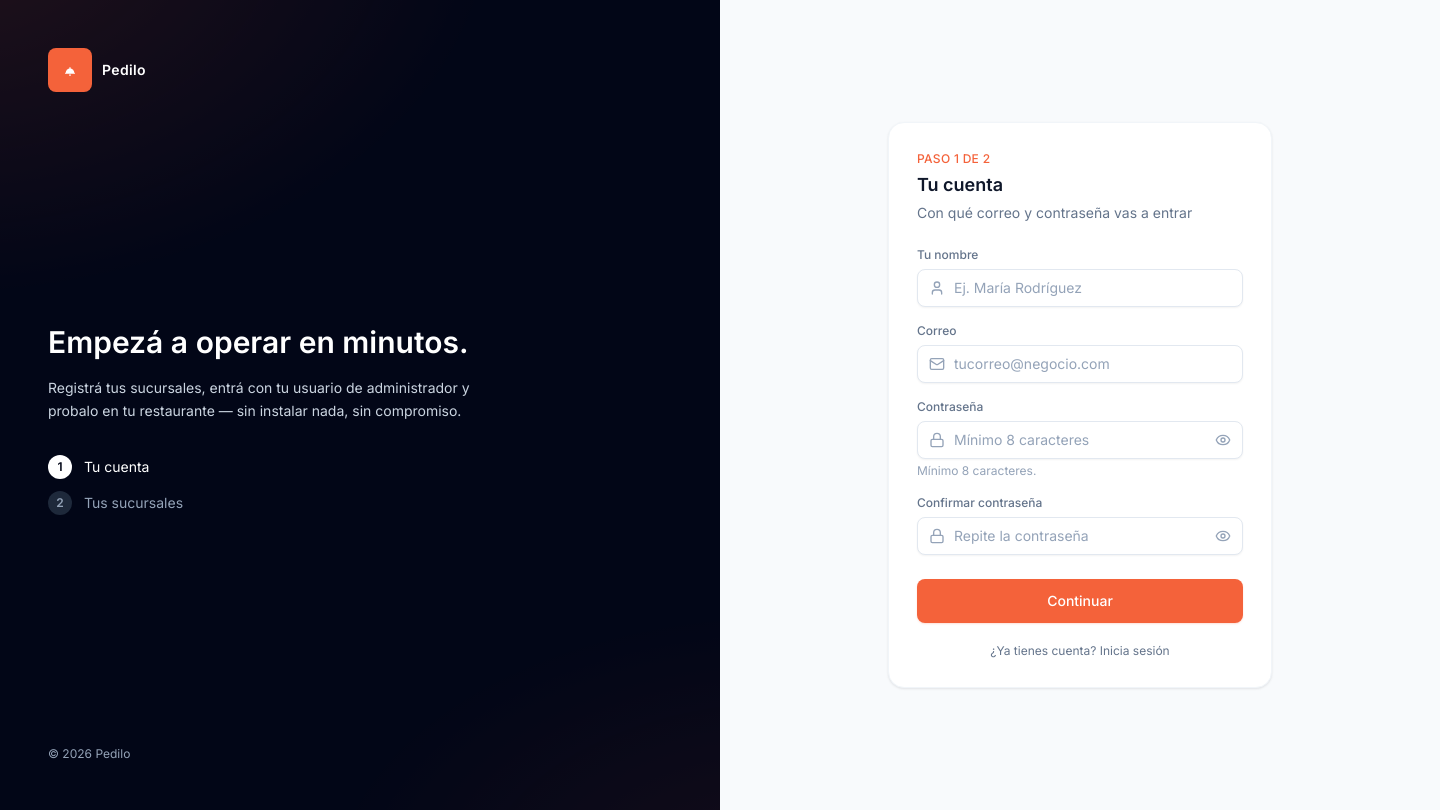
Test: pantalla de registro: revisa cada campo antes de seguir › no pasa al paso 2 con datos malos: marca cada campo y deja el cursor en el primero
Click the button "Continuar" at (1080, 601), box [917,579,1243,623]
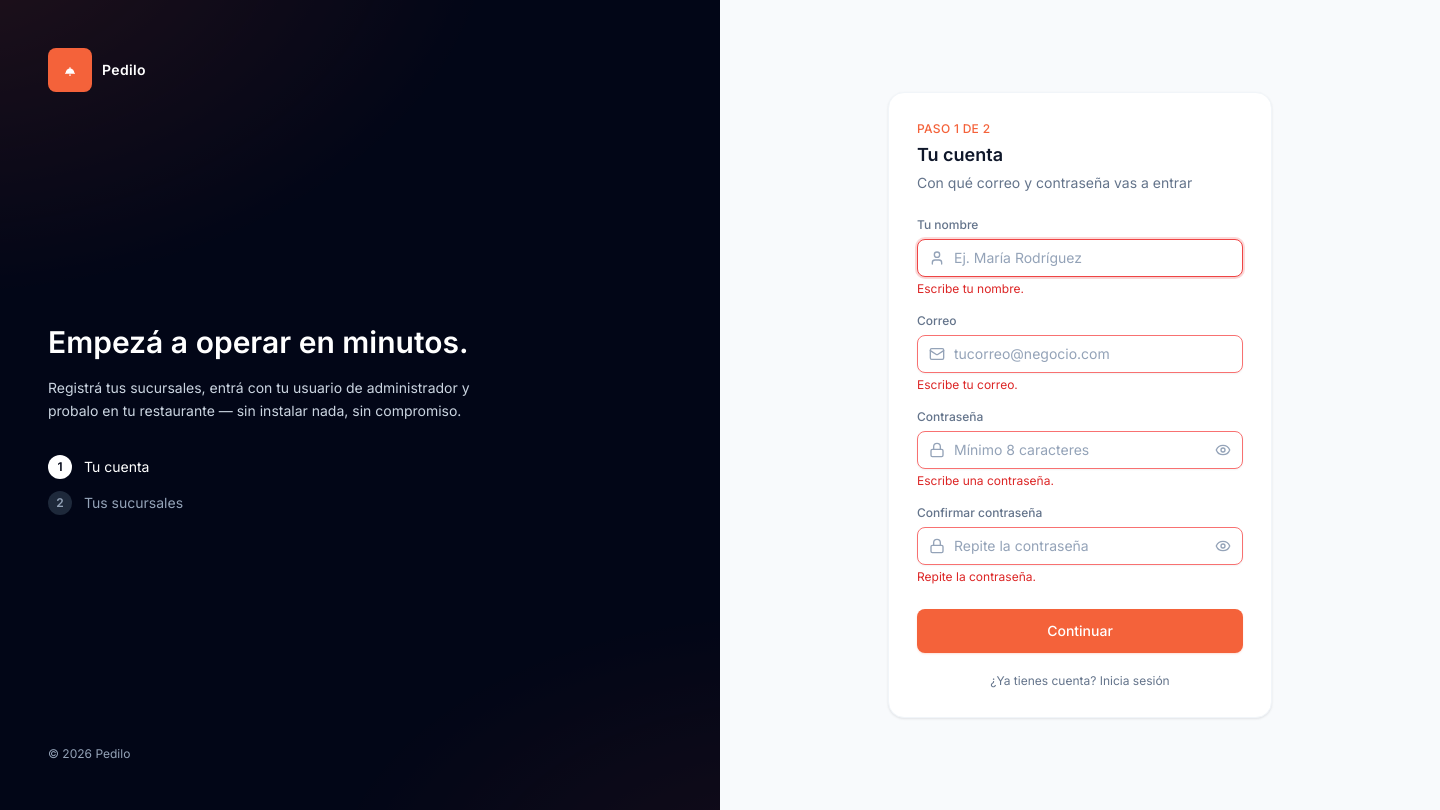
Expected: the text "Escribe tu nombre." is shown, [917,281,1024,296]
Expected: the text "Escribe tu correo." is shown, [917,377,1018,392]
Expected: the text "Escribe una contraseña." is shown, [917,473,1054,488]
